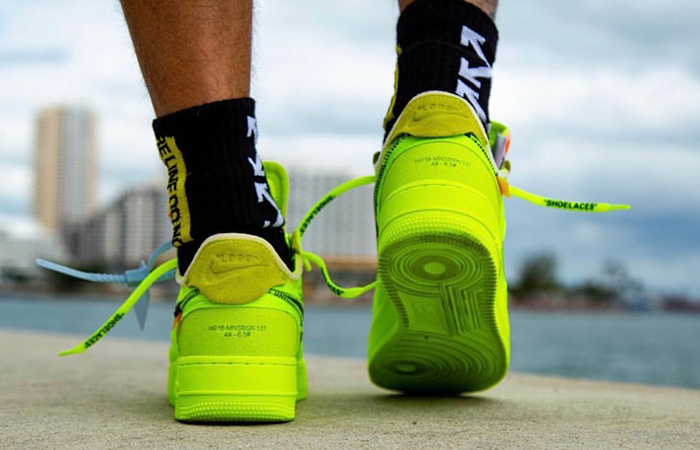Air Force One Volt: (350, 85, 530, 396), (145, 134, 320, 427)
